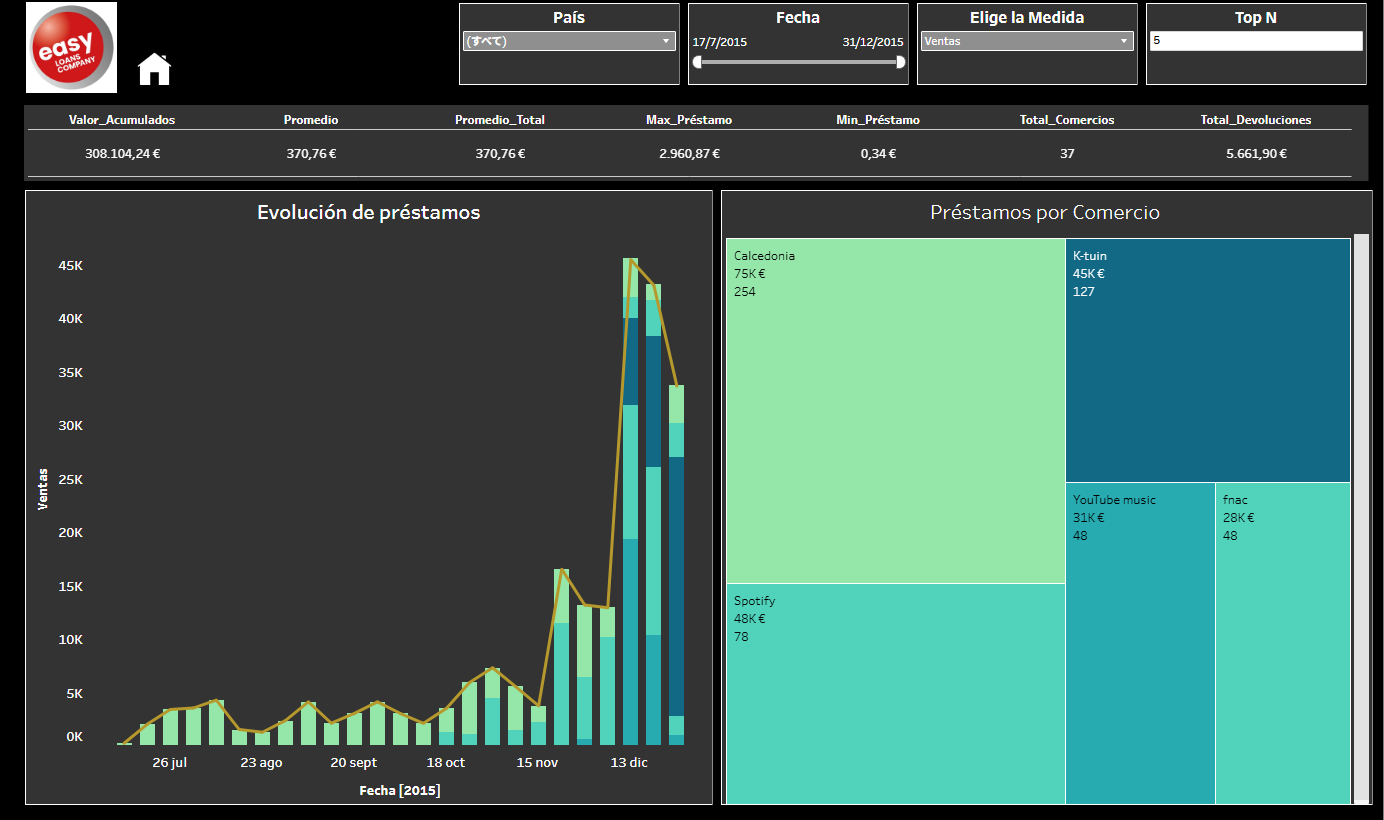

The page's visual inventory and layout, read from the dashboard file:
{"tool":"tableau","page":{"name":"Evolución_por_Cliente","canvas":[1400,850],"ordinal":0},"visuals":[{"type":"filter","title":"Préstamos_por_empresa","param":"[federated.1l9kr5e1pzxyfi1f3q6ui1598jv5].[none:COUNTRY:nk]","box":[463,20,229,90]},{"type":"filter","title":"Préstamos_por_empresa","param":"[federated.1l9kr5e1pzxyfi1f3q6ui1598jv5].[none:CREATED_AT:qk]","box":[692,20,229,90]},{"type":"parameter","param":"[Parameters].[Parámetro 1]","box":[921,20,229,90]},{"type":"parameter","param":"[Parameters].[パラメーター 2]","box":[1150,20,229,90]},{"type":"image","param":"Image/Easy_Loans_Logo.JPG","box":[34,23,104,91]},{"type":"dashboard-object","box":[145,67,35,46]},{"type":"worksheet","title":"Rendimiento_Préstamos (Tabla KPI)","mark":"Text","box":[32,126,1345,76]},{"type":"worksheet","title":"Evolución_préstamos","mark":"Bar","rows":["Calculation_2289489917710340","Calculation_2289489917710340"],"cols":["CREATED_AT"],"box":[29,207,696,623]},{"type":"worksheet","title":"Préstamos_por_empresa","mark":"Square","box":[725,207,660,623]}]}

Visuals, with their boxes in screenshot pixels (x1, y1, x2, y2), scaled from the page's 1400x850 canvas onto the 1384x820 screenshot:
"Préstamos_por_empresa" filter: box=[458, 19, 684, 106]
"Préstamos_por_empresa" filter: box=[684, 19, 910, 106]
parameter: box=[910, 19, 1137, 106]
parameter: box=[1137, 19, 1363, 106]
image: box=[34, 22, 136, 110]
dashboard-object: box=[143, 65, 178, 109]
"Rendimiento_Préstamos (Tabla KPI)" worksheet (Text marks): box=[32, 122, 1361, 195]
"Evolución_préstamos" worksheet (Bar marks): box=[29, 200, 717, 801]
"Préstamos_por_empresa" worksheet (Square marks): box=[717, 200, 1369, 801]
